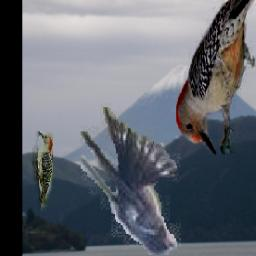Swallow: (81, 103, 181, 255)
Woodpecker: (176, 0, 256, 156), (32, 131, 53, 211)
